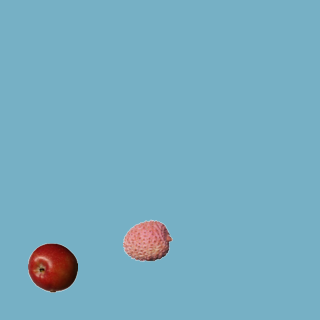Apple Braeburn: (27, 242, 77, 292)
Lychee: (122, 215, 172, 265)
